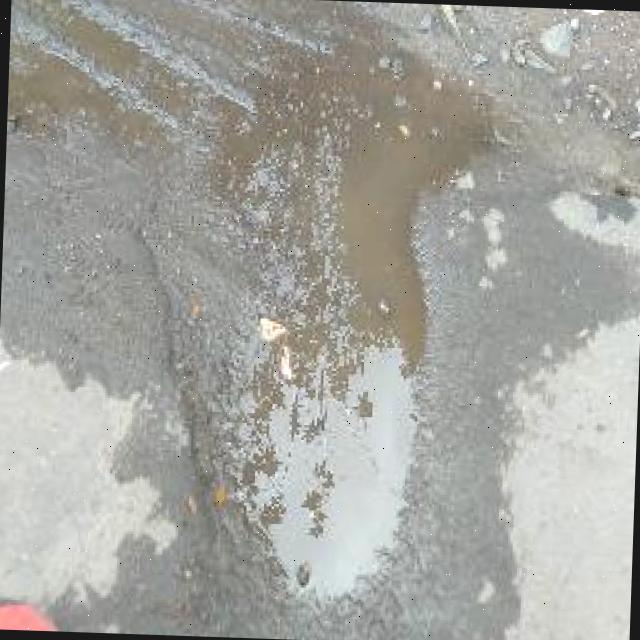stagnation: (148, 25, 490, 617)
